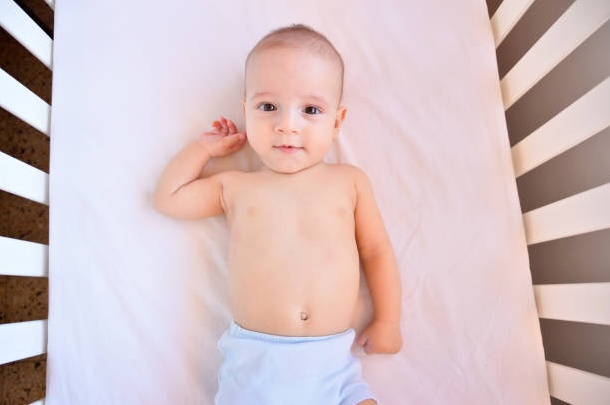baby: (155, 25, 401, 404)
crib: (488, 0, 609, 403)
